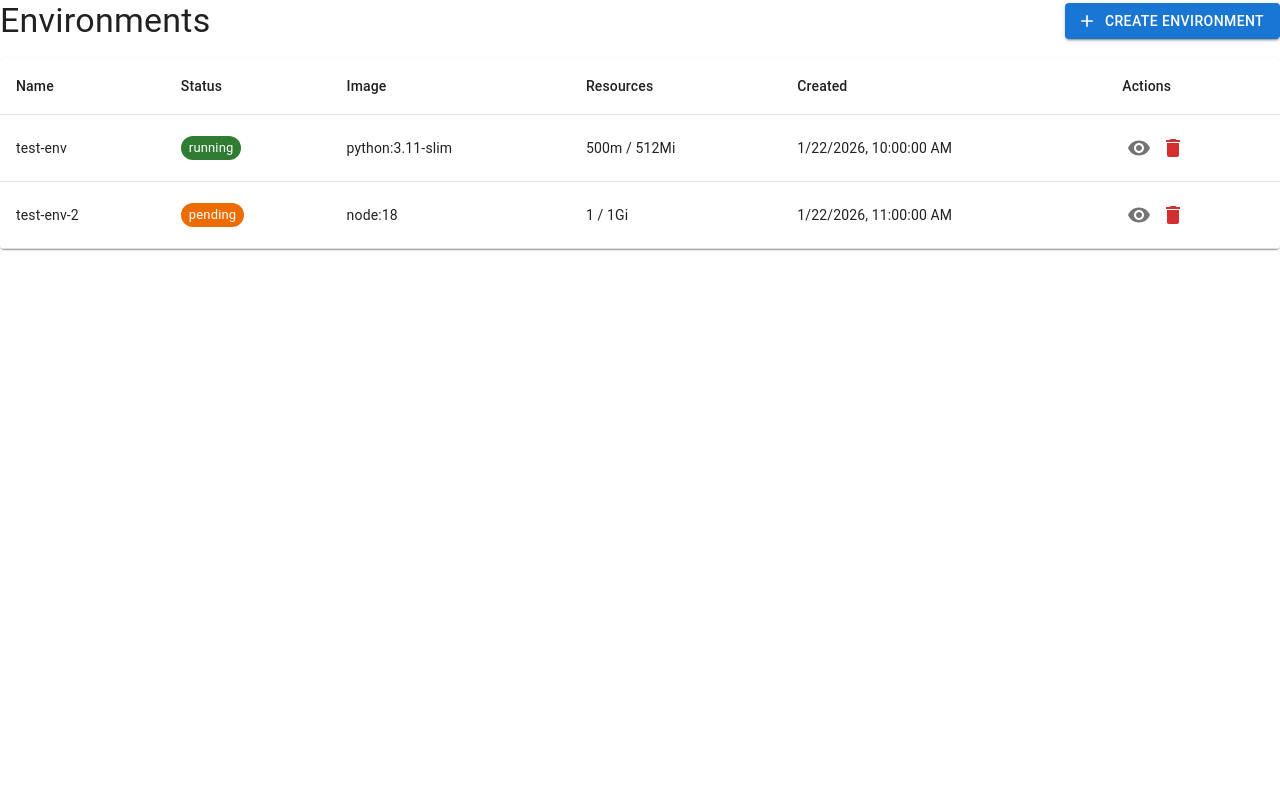
Scenario: EnvironmentsPage › shows add toleration button after expanding node scheduling
This screenshot has width=1280, height=800.
Click the button "Create Environment" at coordinates (1172, 21), box [1065, 3, 1279, 39]
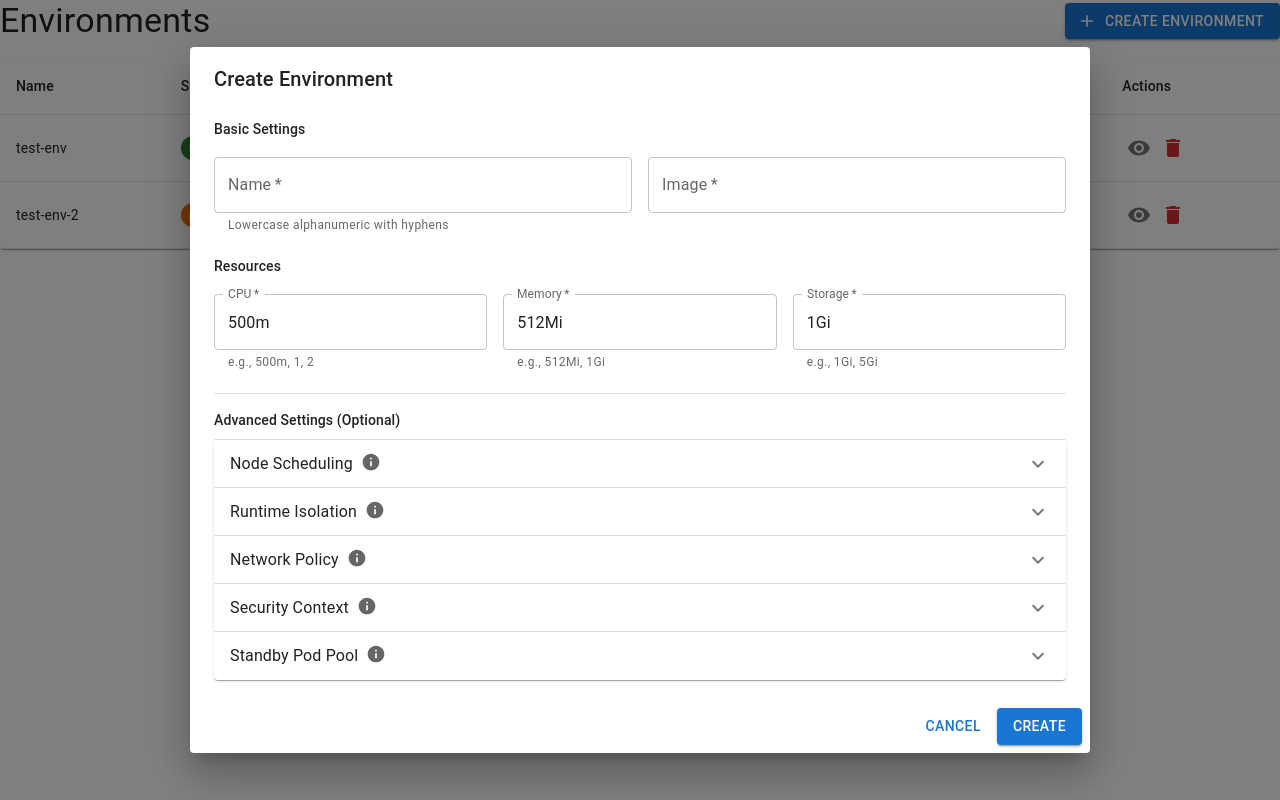
// Find and click the Node Scheduling accordion
Click the button "Node Scheduling" at coordinates (291, 464), box [230, 452, 1050, 476]
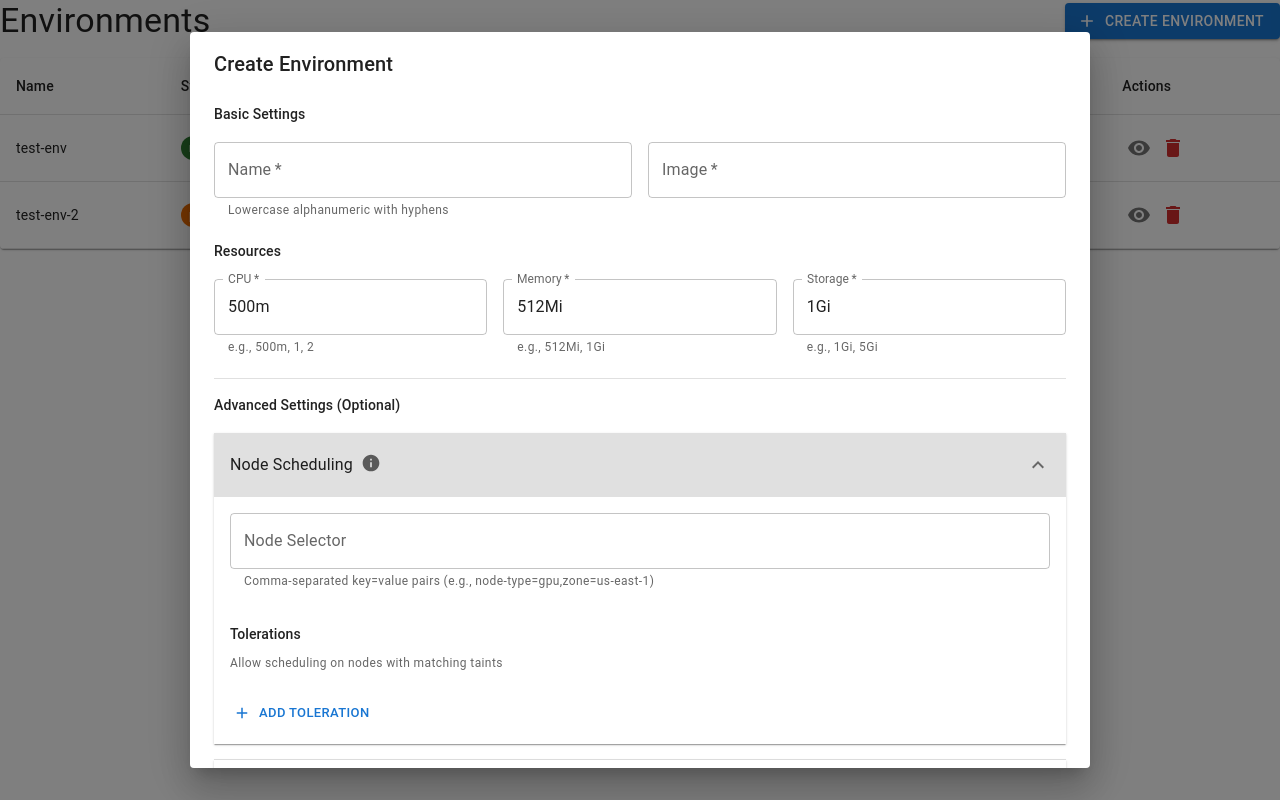
Result: the button "Add Toleration" is shown at [230, 698, 375, 728]
